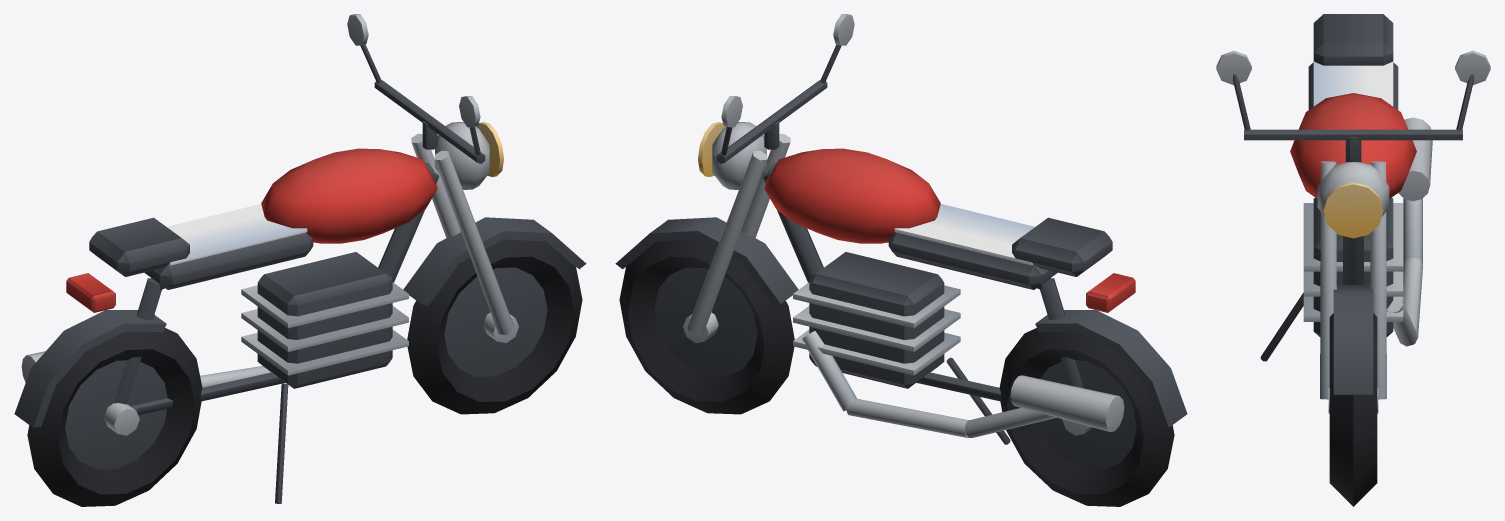
The model's file is ck_motorbike.fbx.
The picture shows the model from 3 angles, left to right: view 1: azimuth 30°, elevation 25°; view 2: azimuth 150°, elevation 25°; view 3: azimuth 270°, elevation 25°; orthographic projection. The views are drawn at different scales.
Visible parts, largest first — view 1: ck_motorbike; view 2: ck_motorbike; view 3: ck_motorbike.
Part boxes in pixels (x1,y1,x2,y2): ck_motorbike: (14, 14, 586, 506); ck_motorbike: (615, 14, 1187, 506); ck_motorbike: (1216, 14, 1490, 506).
Bounding box in the file's own units: 690 × 445 × 275.
